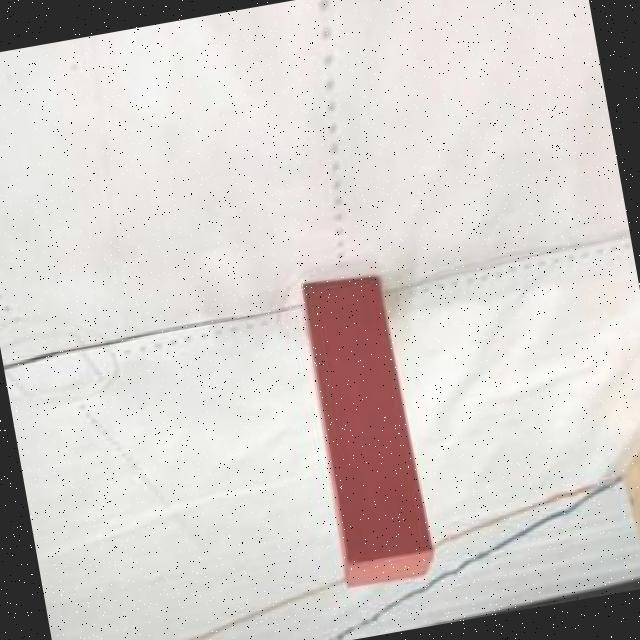redbox: (292, 270, 439, 589)
